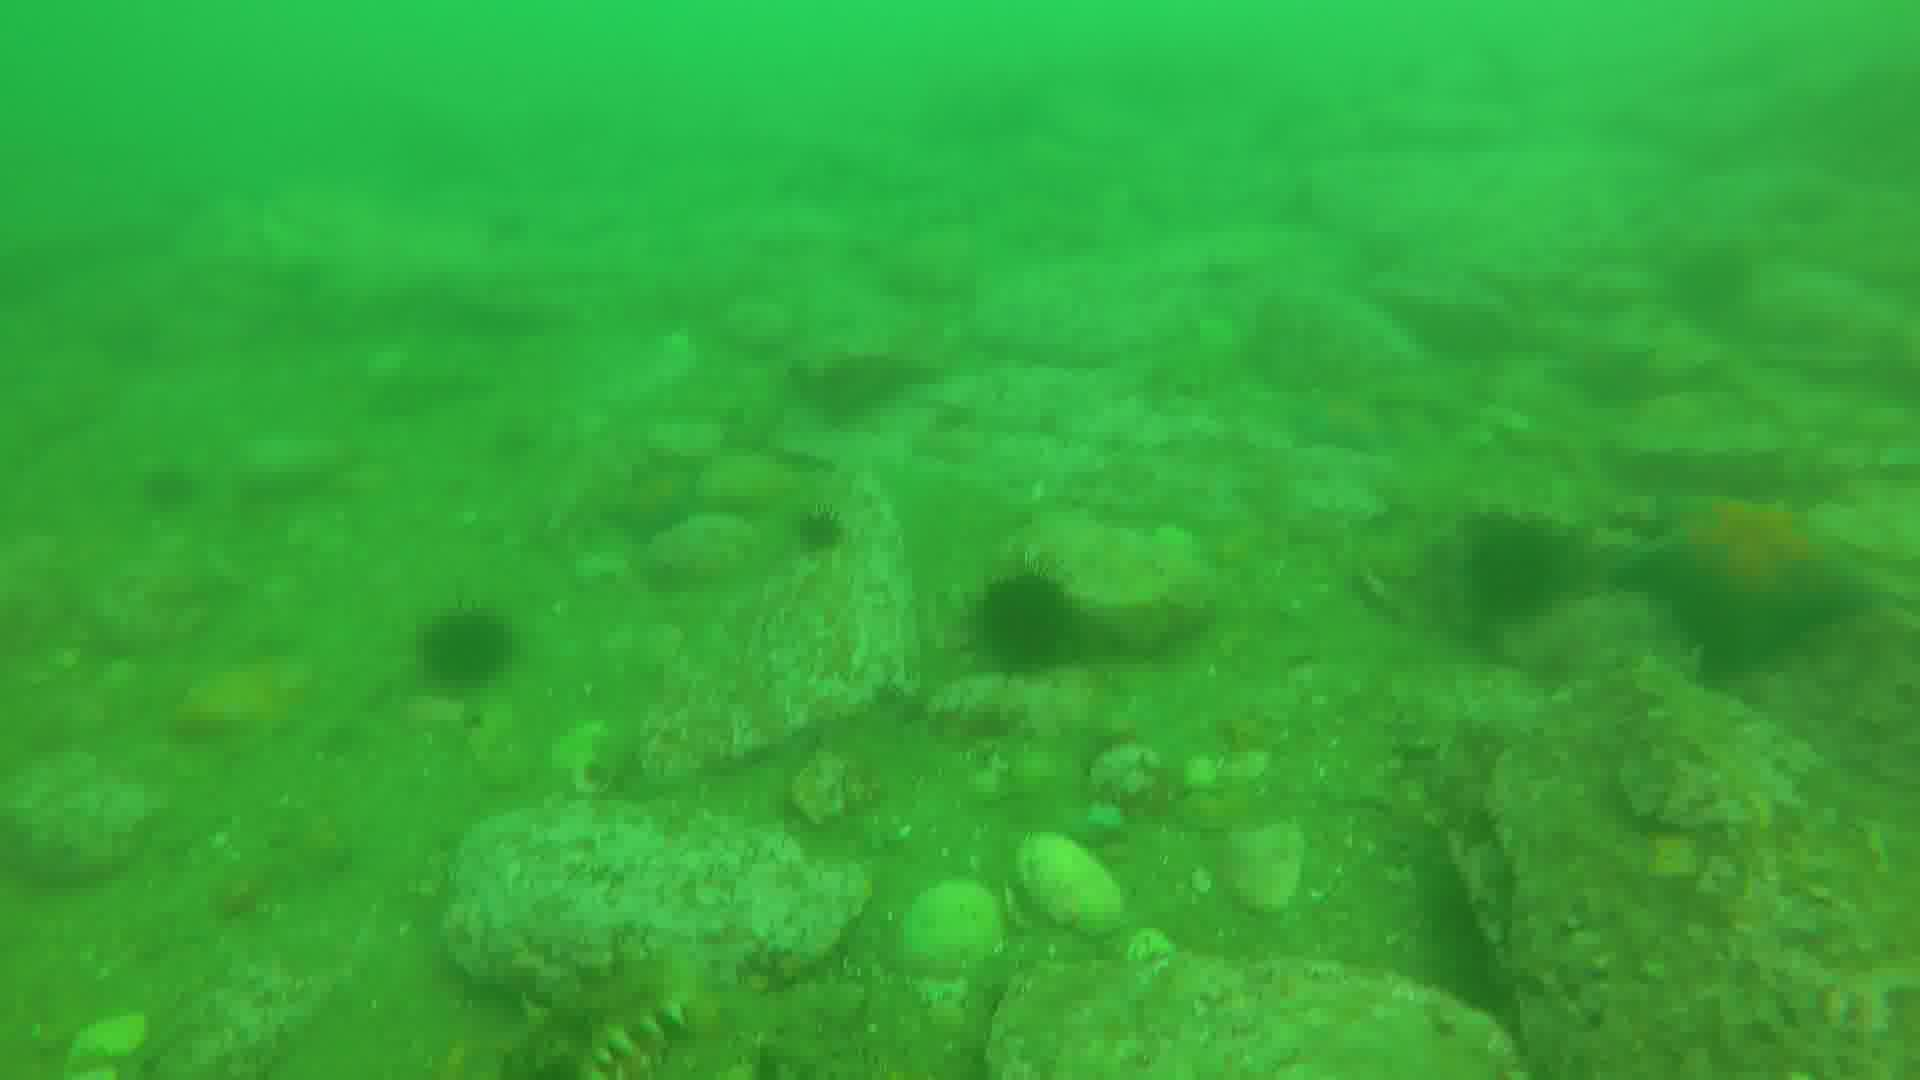echinus: (1456, 513, 1582, 624), (971, 570, 1095, 680), (419, 604, 527, 698), (793, 506, 858, 566), (140, 464, 206, 516)
holothurian: (1590, 647, 1775, 839), (469, 963, 700, 1080)
scallop: (1011, 825, 1135, 944), (891, 869, 1000, 981)
starfish: (1621, 492, 1883, 673), (613, 462, 725, 541)
